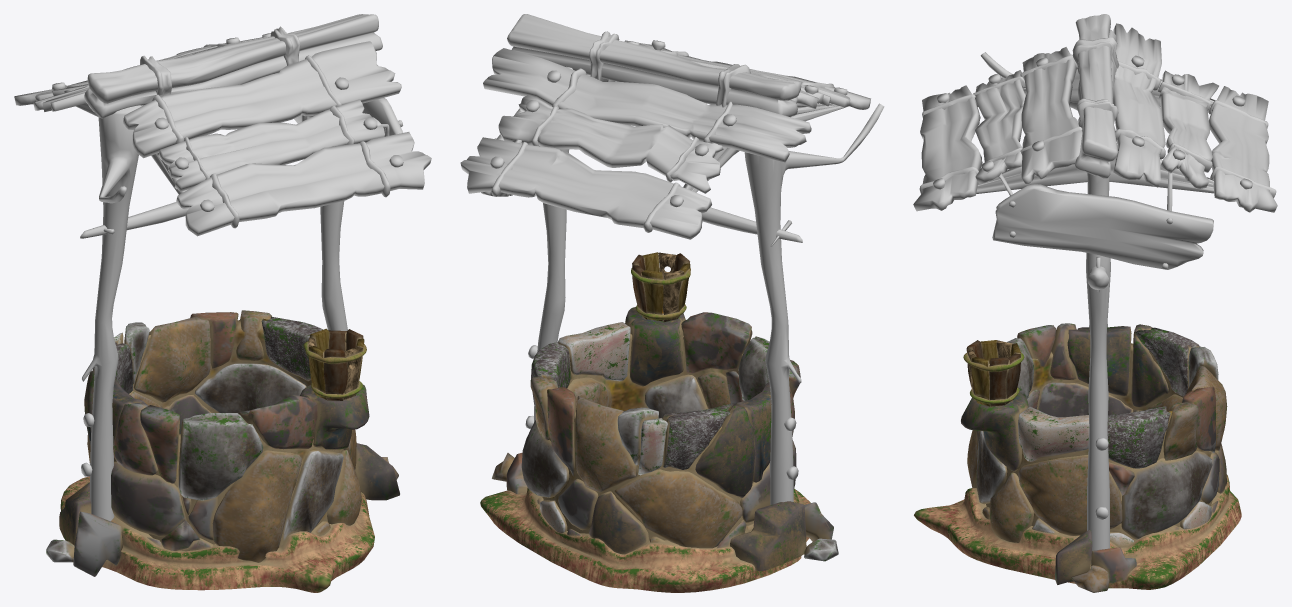
Rendered from Well.fbx.
3 views of the same model, side by side, from view 1: azimuth 30°, elevation 25°; view 2: azimuth 150°, elevation 25°; view 3: azimuth 270°, elevation 25° (orthographic). The views are drawn at different scales.
Parts seen in each view (by area): view 1: WellRockL, WellwoodL, BucketL; view 2: WellRockL, WellwoodL, BucketL; view 3: WellwoodL, WellRockL, BucketL.
Boxes of the visible parts, <box> form: WellRockL: <box>46,310,399,592</box>; WellwoodL: <box>14,14,431,521</box>; BucketL: <box>303,328,366,400</box>; WellRockL: <box>480,307,838,592</box>; WellwoodL: <box>460,14,884,504</box>; BucketL: <box>631,252,690,322</box>; WellwoodL: <box>913,14,1277,563</box>; WellRockL: <box>914,323,1241,592</box>; BucketL: <box>963,340,1024,406</box>.
Size of the model in its own units: 175 by 232 by 169.
